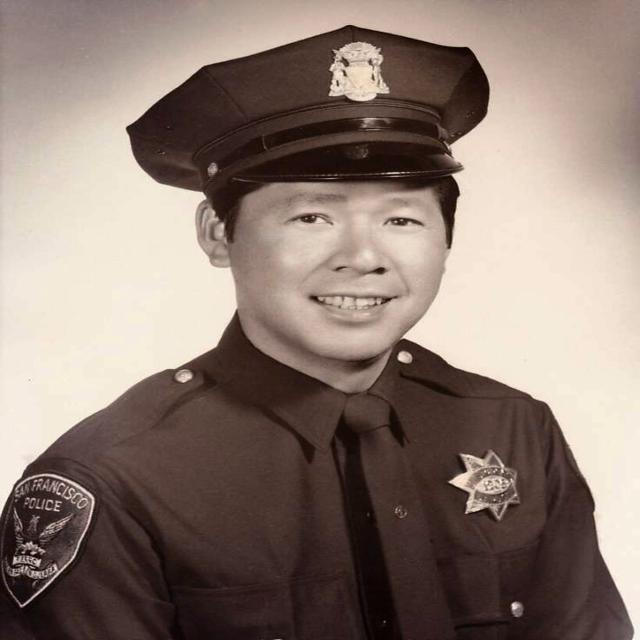police: (40, 2, 600, 640)
